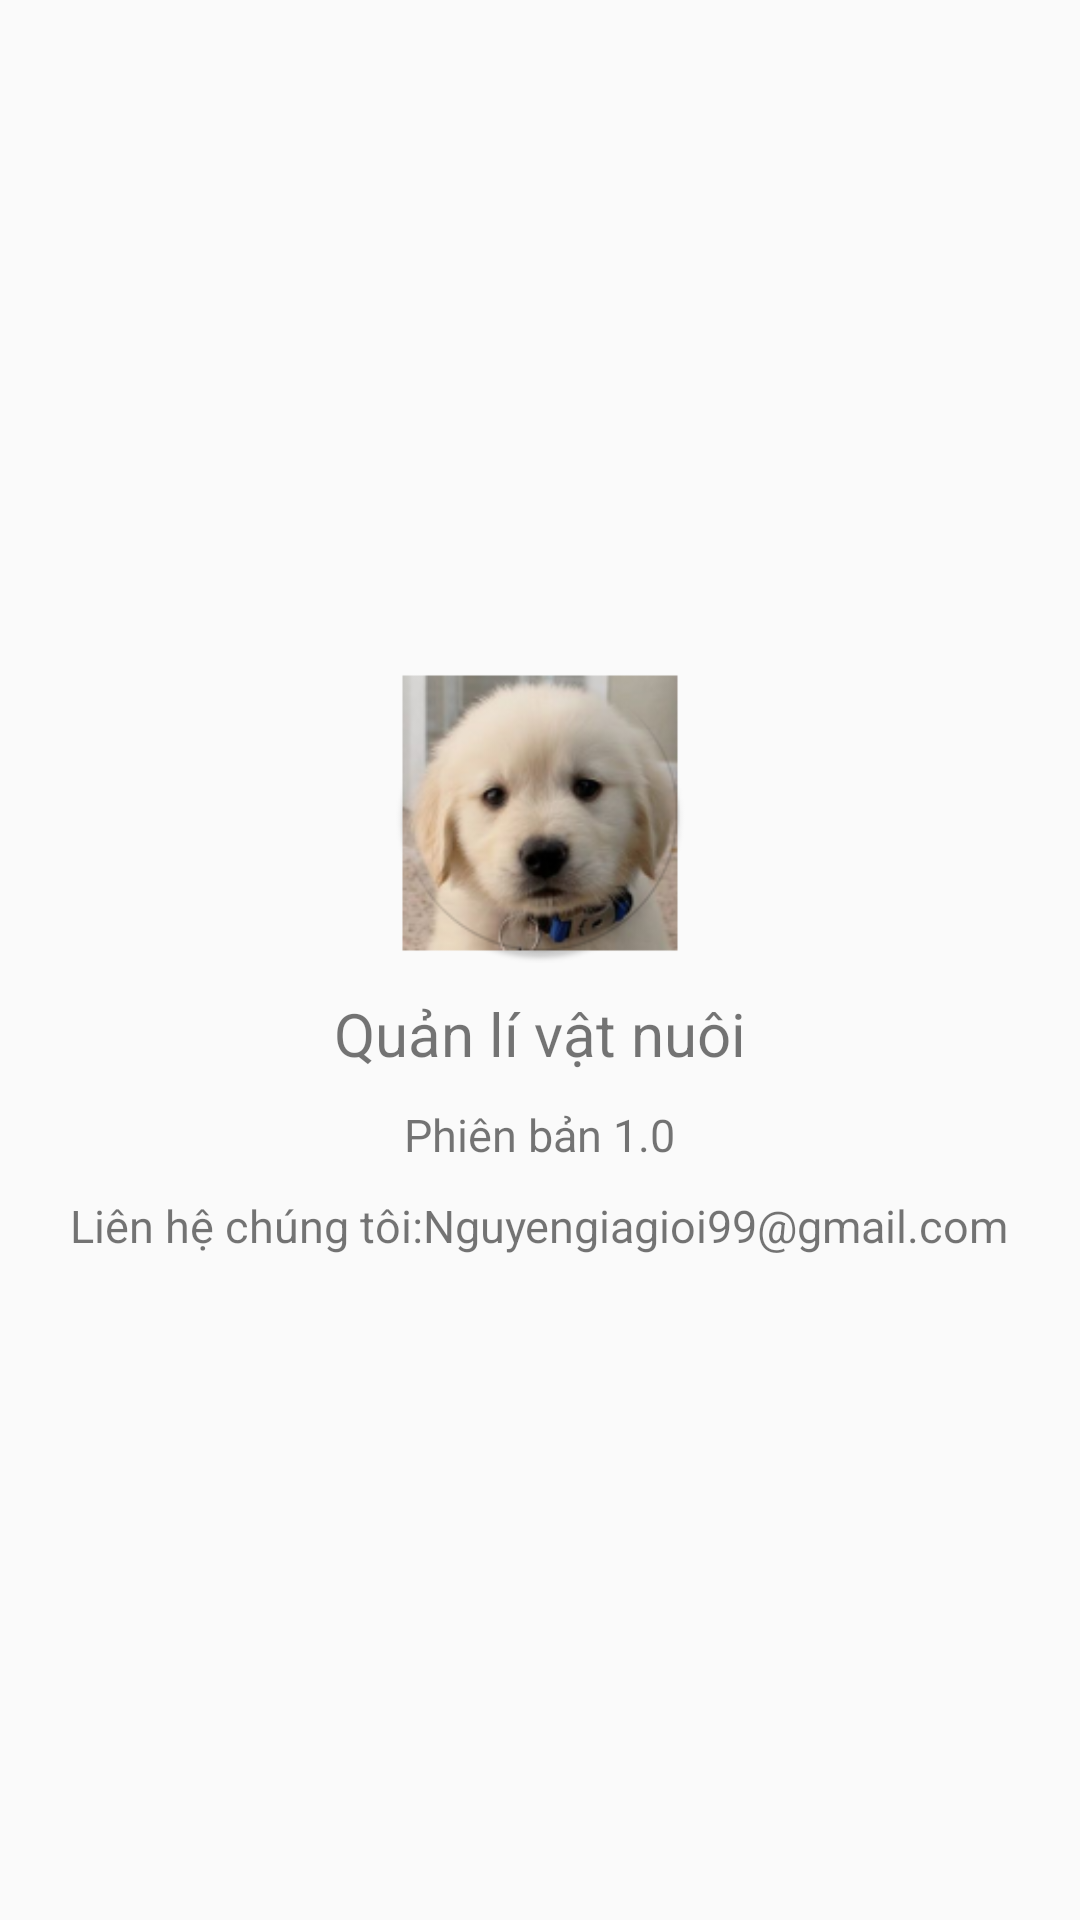

Screen size 1080x1920. Icon name, then its box in pixels as region(x1, y1, x2, y2):
dog: region(402, 675, 679, 958)
